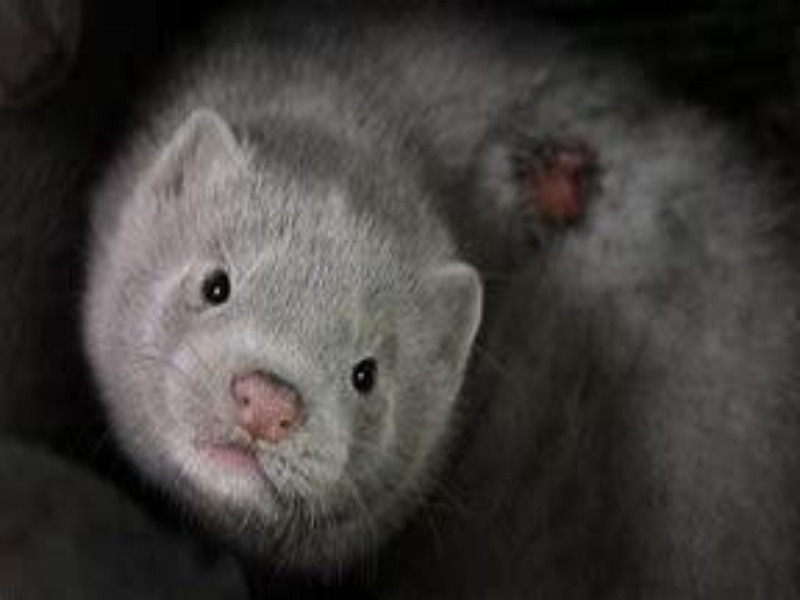minkish: (73, 16, 503, 552)
